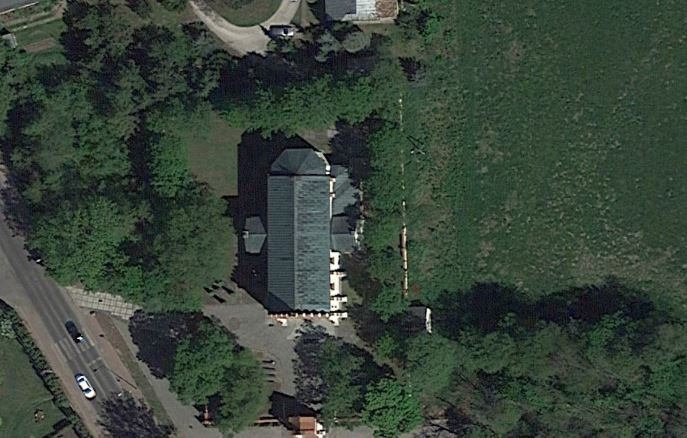church: (237, 141, 366, 328)
